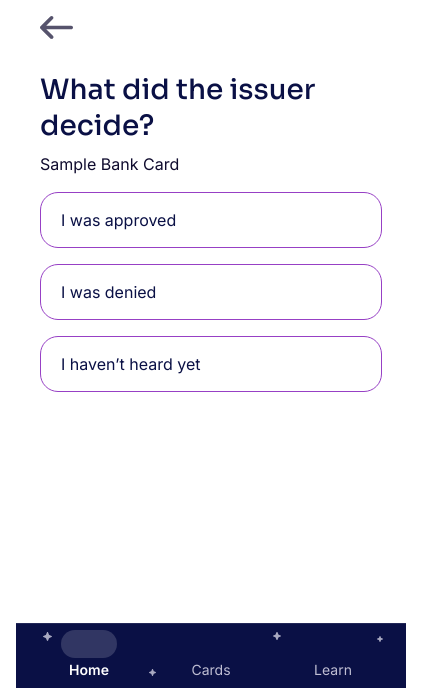
Scenario: MarkResult › asks for dollars instead of saving a limit it cannot read
Click the button "I was approved". click: (119, 220)
box: [40, 192, 382, 248]
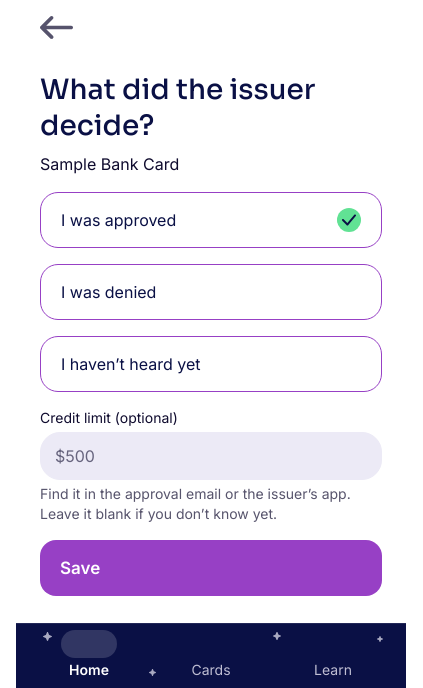
Type "five hundred" into the field labelled "Credit limit (optional)". click: (214, 456)
box: [55, 433, 373, 479]
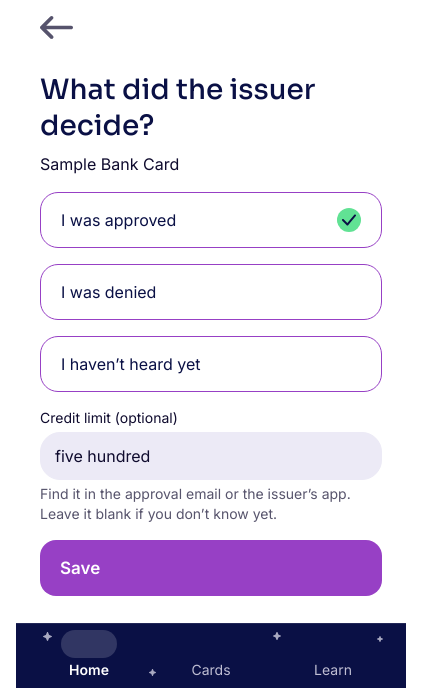
Click the button "Save". click: (80, 568)
box: [40, 540, 382, 596]
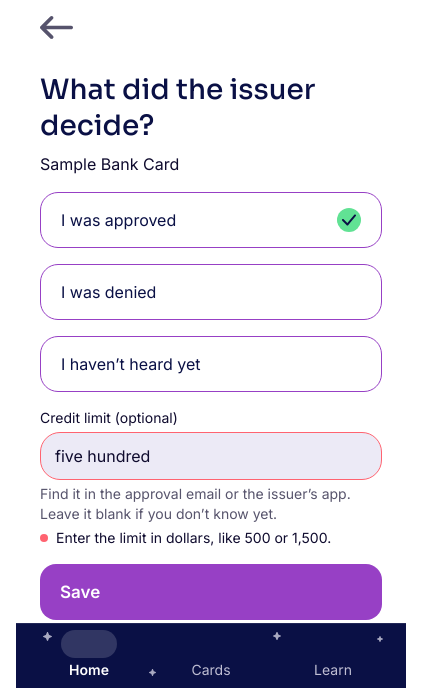
Check: the message shows "like 500", box [56, 529, 331, 546]
